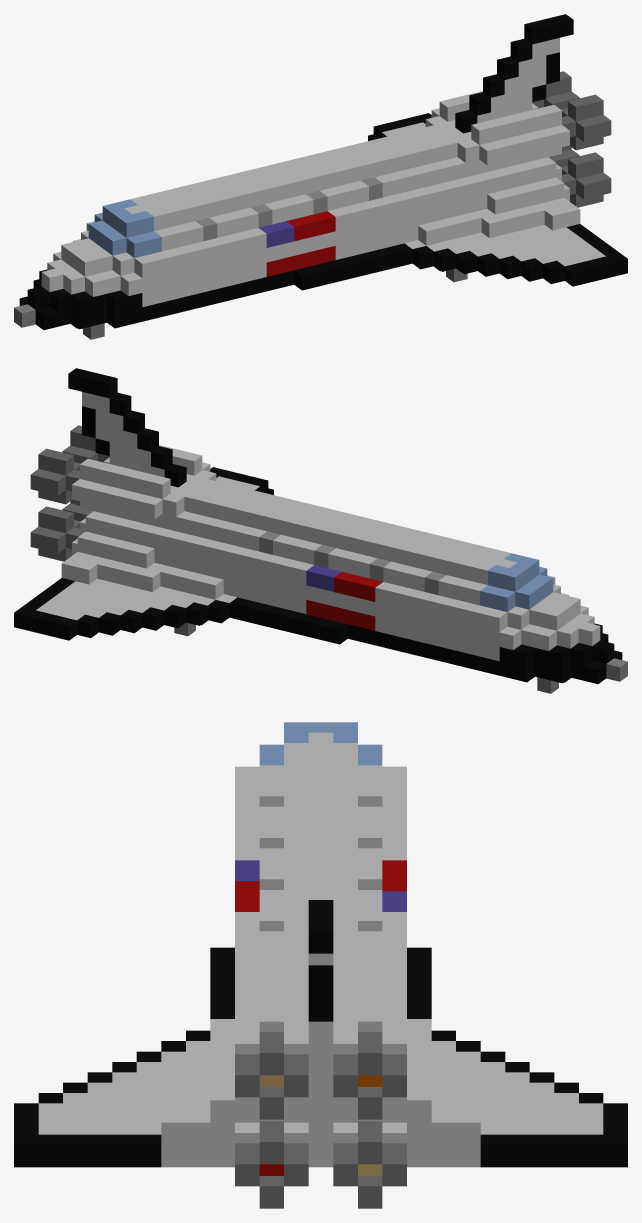
File: spaceship.glb
3 renders of one model, top to bottom at view 1: azimuth 30°, elevation 25°; view 2: azimuth 150°, elevation 25°; view 3: azimuth 270°, elevation 25°, orthographic. The views are drawn at different scales.
Visible parts, largest first — view 1: Matrix; view 2: Matrix; view 3: Matrix.
Boxes of the visible parts, x1=… form: Matrix: x1=14, y1=14, x2=627, y2=339; Matrix: x1=14, y1=368, x2=627, y2=693; Matrix: x1=14, y1=722, x2=627, y2=1208.
Size of the model in its own units: 41 by 14 by 25.
